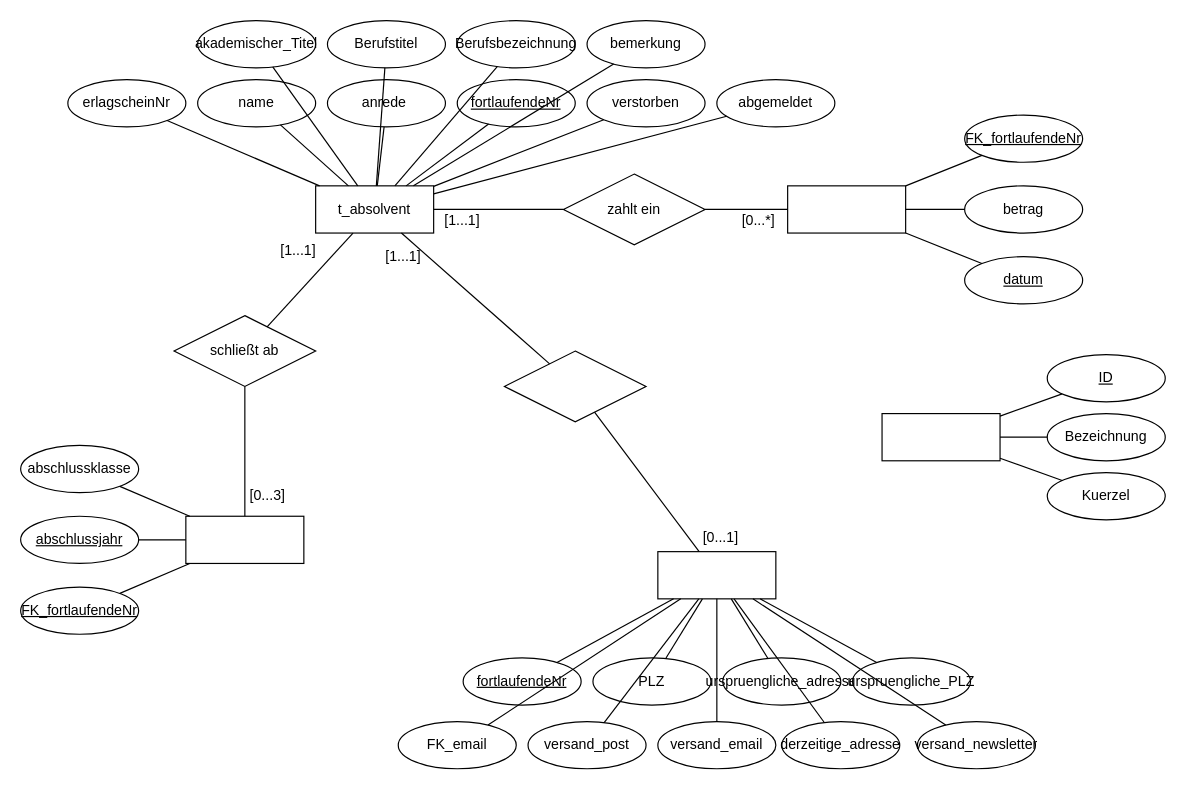
The diagram is 1186 pixels wide and 789 high, and some of its shapes have lost their labels. Here are the shapes that lost their labels. From the top down, the centre of each, then its label:
At [846,209]: "t_einzahlung".
At [574,386]: "erhält newsletter".
At [940,436]: "t_abteilung".
At [244,539]: "t_abschluss".
At [716,574]: "t_versand".
